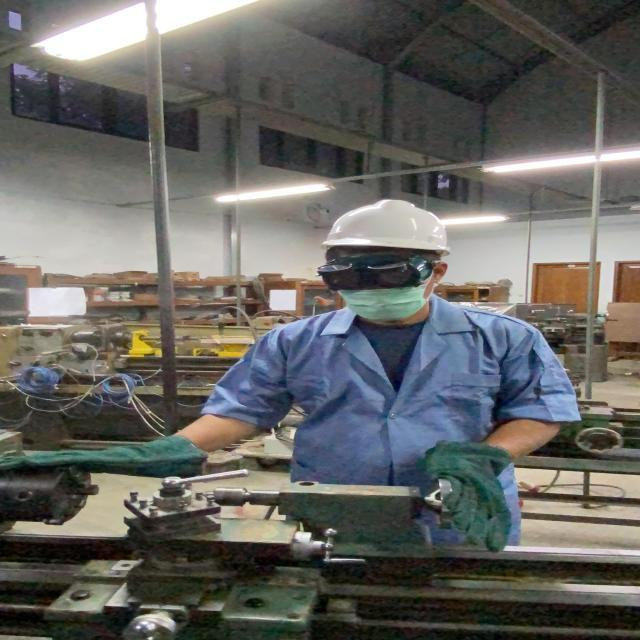glasses: (310, 250, 442, 296)
